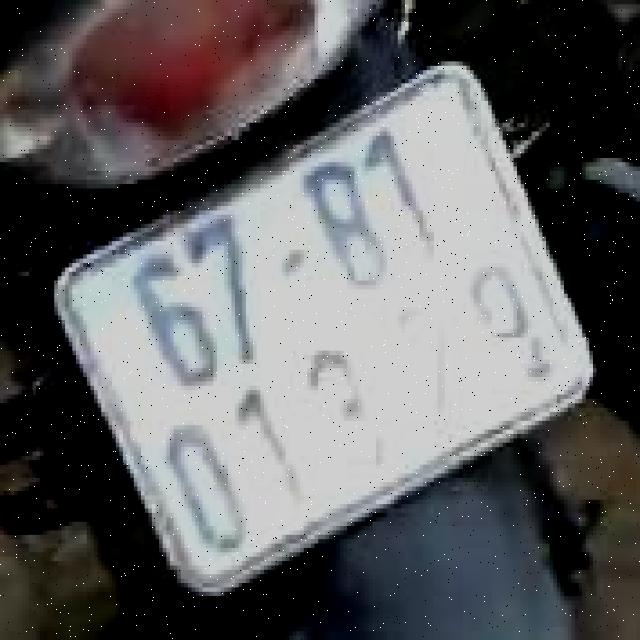0: (149, 409, 271, 574)
1: (224, 375, 326, 522), (357, 123, 455, 271)
2: (385, 285, 490, 442)
3: (293, 334, 403, 487)
6: (120, 243, 230, 408)
7: (181, 206, 286, 375)
9: (444, 243, 569, 404)
B: (298, 149, 407, 303)
